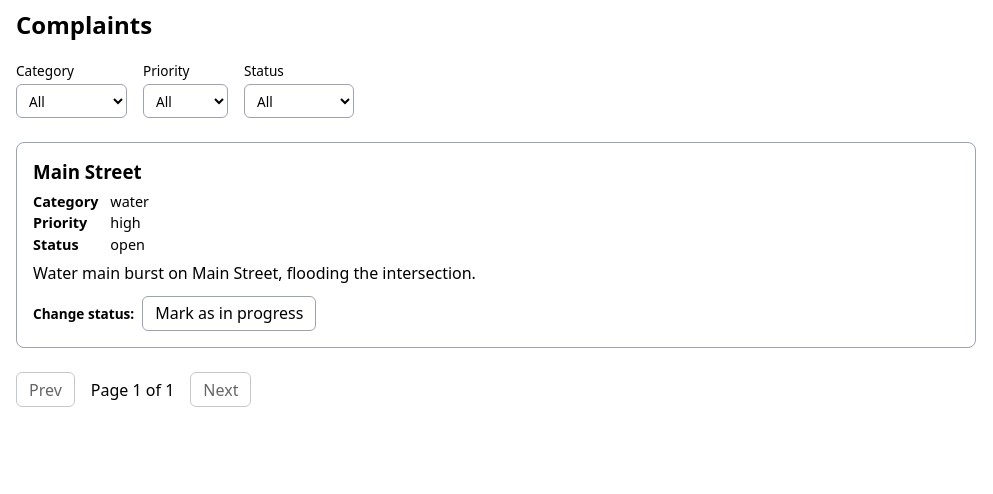
Test case: DashboardPage › shows the server's exact 409 conflict message
Click the button "Mark as in progress".
click(229, 314)  # box [142,296,316,331]
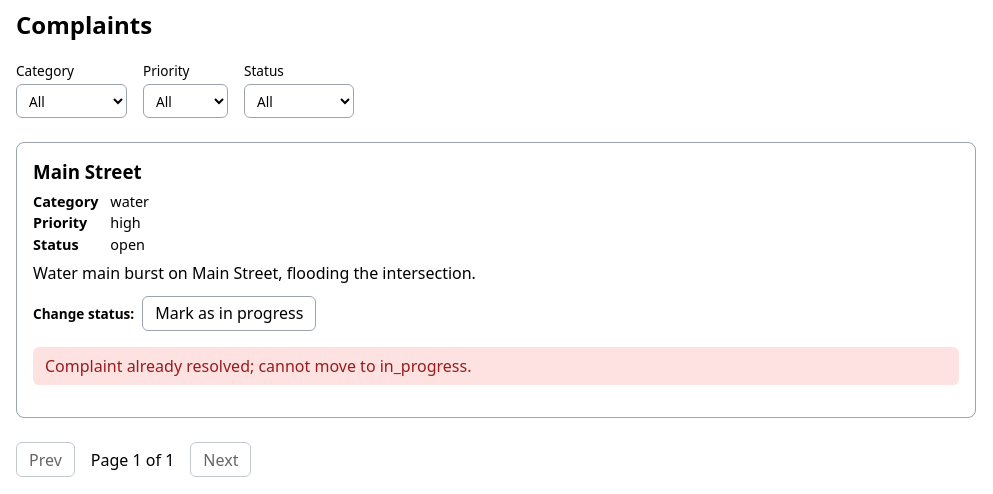
Check: the message reads "Complaint already resolved; cannot move to in_progress.", box [45,355,471,377]
